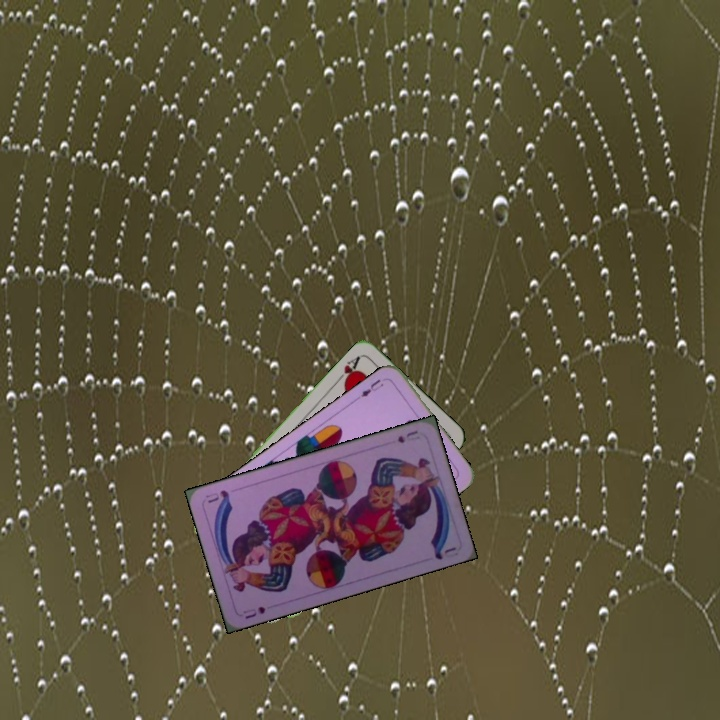EU: (353, 375, 386, 402)
HA: (332, 352, 363, 388)
SU: (394, 426, 423, 446), (239, 602, 268, 621)
